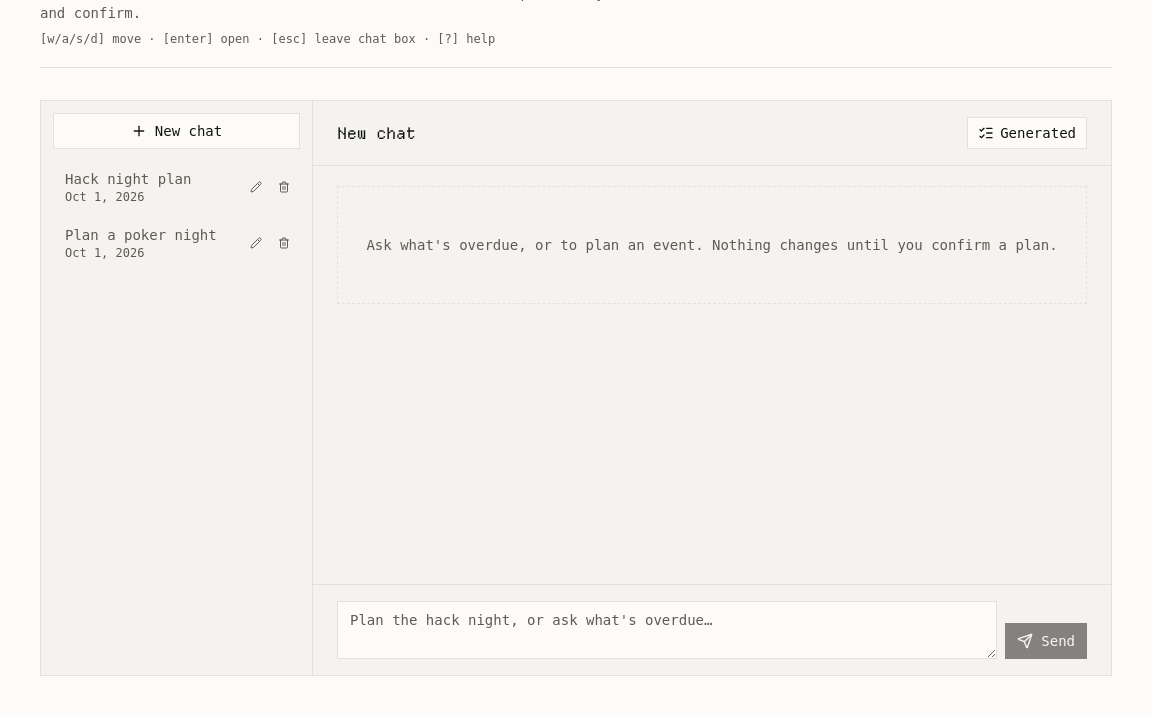
keeps a follow-up typed while the first reply is on its way
(page scrolled)
Type "Plan a poker night" into the text box named "Message the assistant".
click(667, 630); type("Plan a poker night")  # box [337,601,997,659]
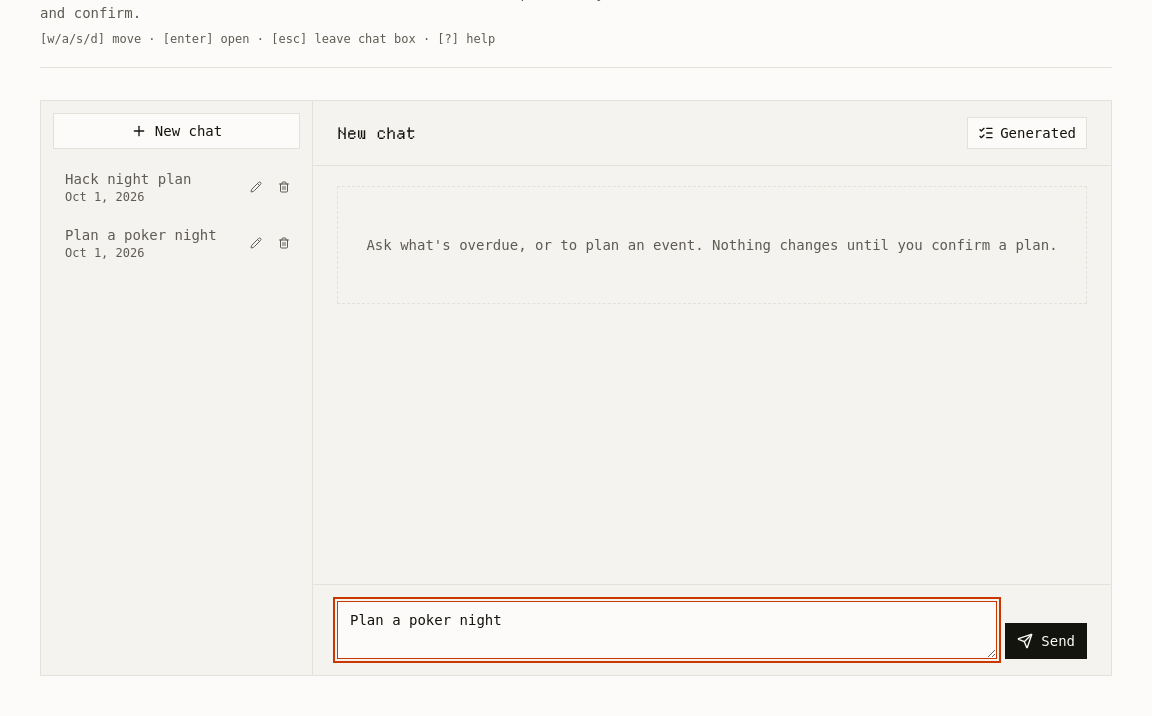
Click the button "Send".
click(1046, 641)  # box [1005,623,1087,659]
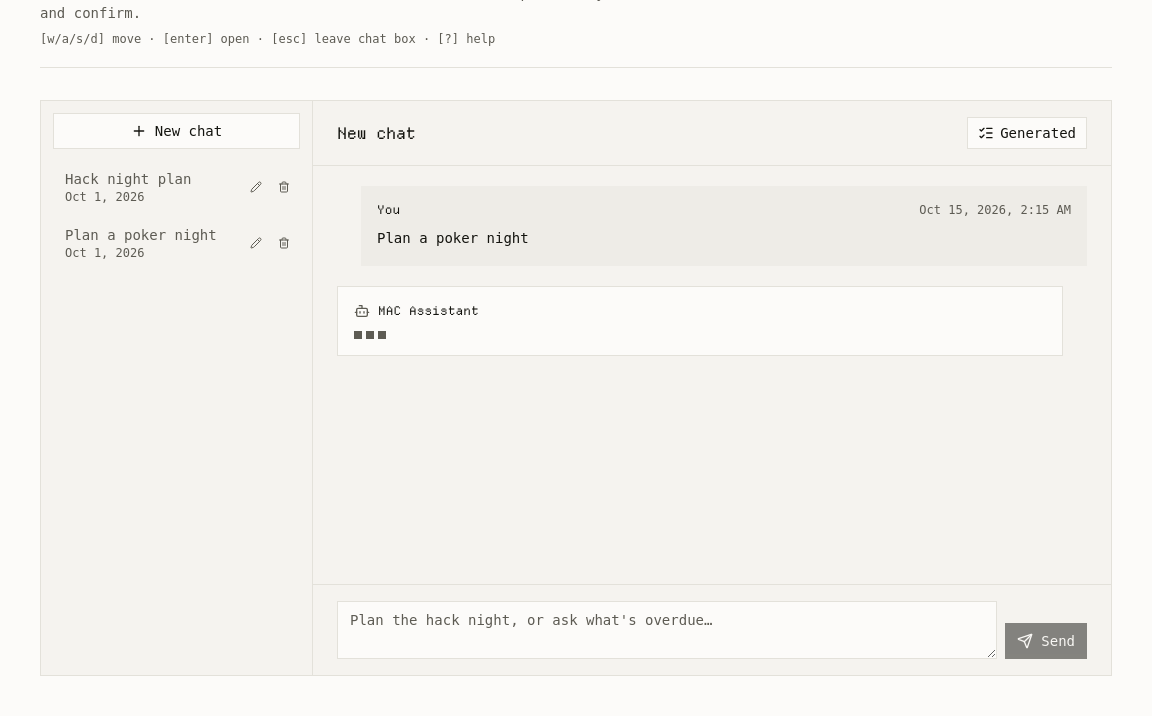
expect the message named "MAC Assistant is thinking" is shown: met, box [354,331,386,339]
Type "And a budget?" into the text box named "Message the assistant".
click(667, 630); type("And a budget?")  # box [337,601,997,659]
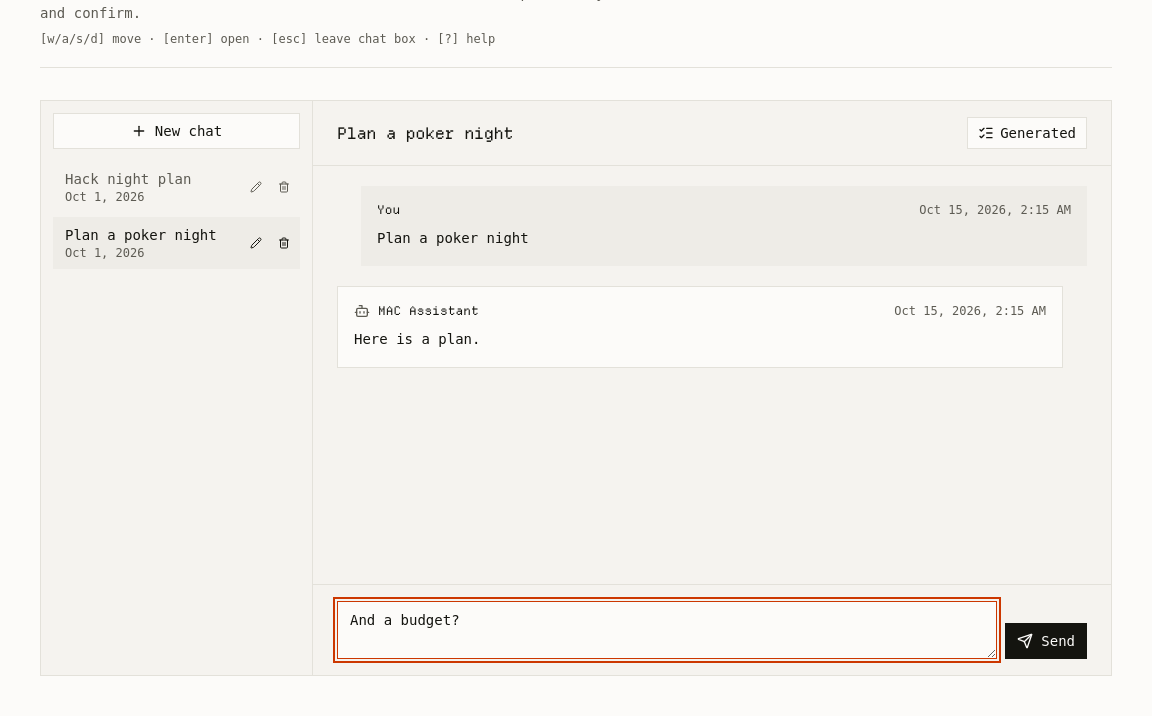
expect the text "Here is a plan." is shown: met, box [354,331,480,347]
